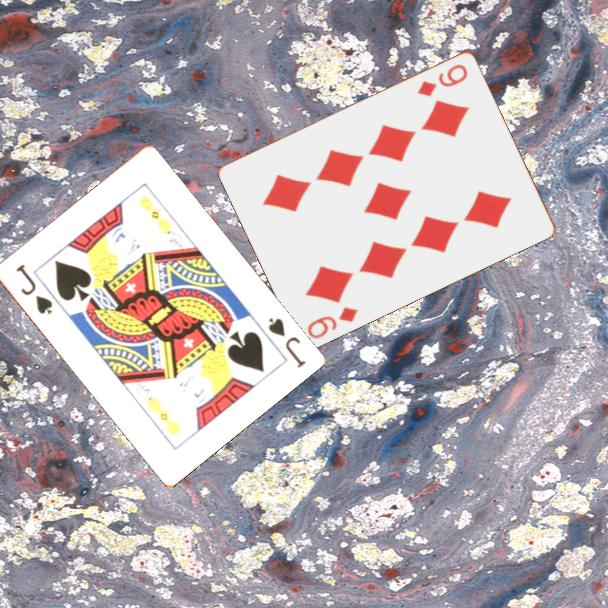d09: (414, 60, 471, 99), (304, 303, 361, 341)
s11: (264, 314, 308, 371), (12, 260, 55, 317)
